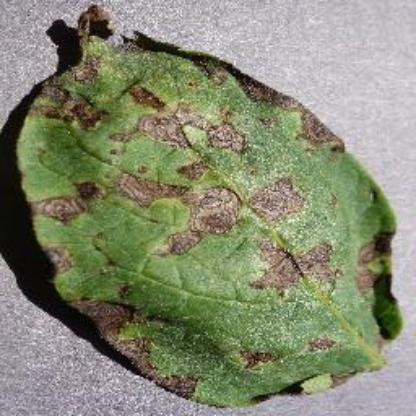Early-Blight: (13, 5, 405, 408)
